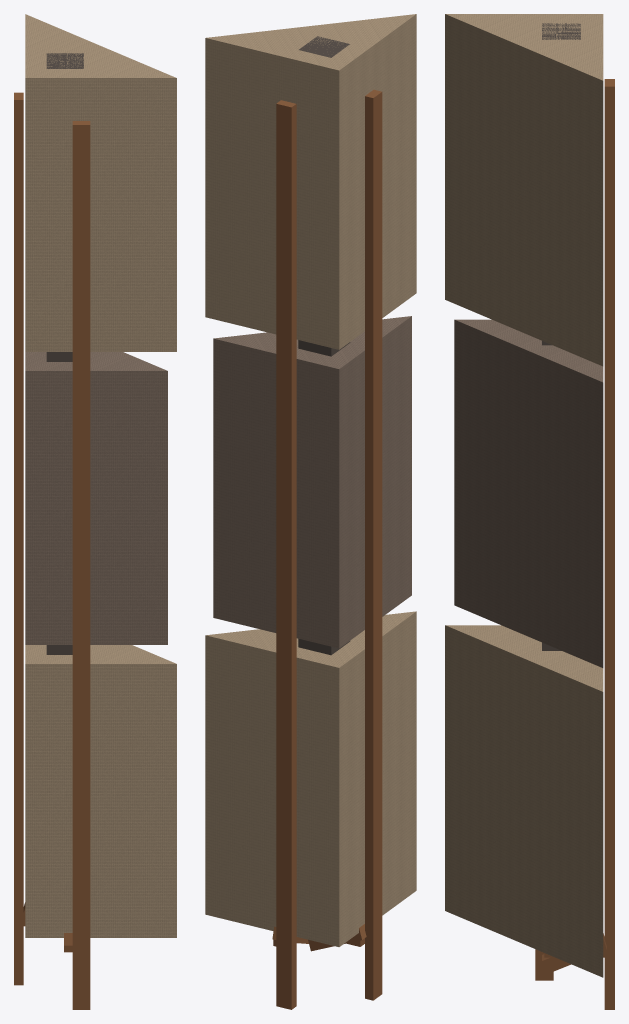
3 views of the same model, side by side, from view 1: azimuth 90°, elevation 25°; view 2: azimuth 150°, elevation 25°; view 3: azimuth 270°, elevation 25° (orthographic). The views are drawn at different scales.
Visible parts, largest first — view 1: segmented-tier-3, segmented-tier-1, segmented-tier-2, x-rail, z-rail, segmented-spine; view 2: segmented-tier-3, segmented-tier-1, segmented-tier-2, z-rail, x-rail, segmented-spine; view 3: segmented-tier-3, segmented-tier-1, segmented-tier-2, z-rail, segmented-spine.
Part boxes in pixels (bbox=[...]): segmented-tier-3: bbox=[25, 14, 176, 351]; segmented-tier-1: bbox=[25, 645, 176, 937]; segmented-tier-2: bbox=[25, 352, 167, 644]; x-rail: bbox=[72, 121, 90, 1009]; z-rail: bbox=[14, 92, 23, 985]; segmented-spine: bbox=[46, 53, 83, 654]; segmented-tier-3: bbox=[205, 14, 416, 349]; segmented-tier-1: bbox=[205, 611, 416, 946]; segmented-tier-2: bbox=[213, 316, 411, 648]; z-rail: bbox=[276, 100, 296, 1009]; x-rail: bbox=[365, 89, 382, 1000]; segmented-spine: bbox=[298, 36, 350, 655]; segmented-tier-3: bbox=[445, 14, 603, 366]; segmented-tier-1: bbox=[445, 625, 603, 977]; segmented-tier-2: bbox=[454, 319, 603, 667]; z-rail: bbox=[604, 79, 614, 1009]; segmented-spine: bbox=[542, 23, 580, 650].
Bounding box in the file's own units: 0.35 × 2.2 × 0.35.
9 materials, 2 textured.
